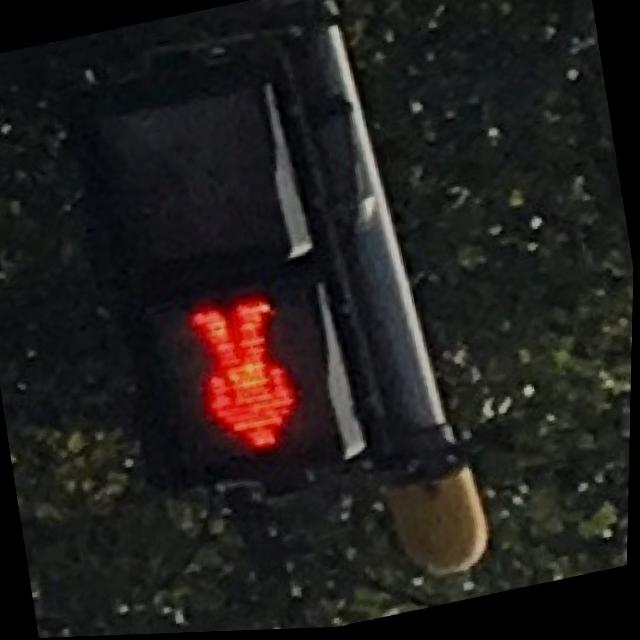red_light: (152, 270, 342, 492)
